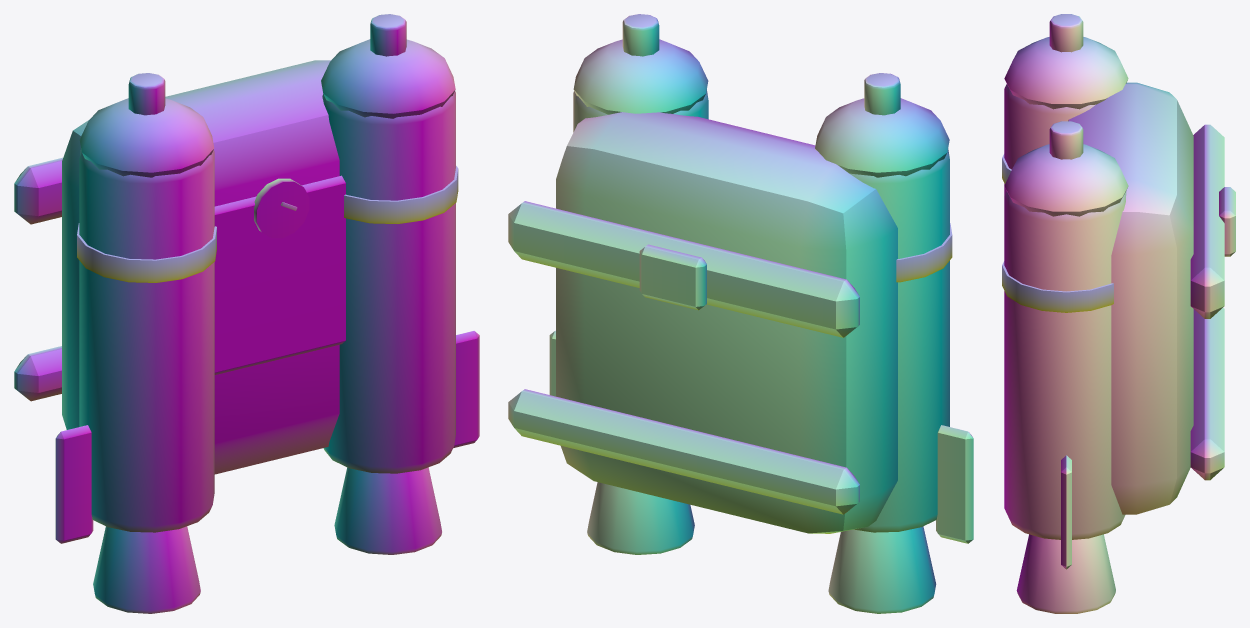
File: gad_jetpack.glb
3 renders of one model, left to right at view 1: azimuth 30°, elevation 25°; view 2: azimuth 150°, elevation 25°; view 3: azimuth 270°, elevation 25°, orthographic. The views are drawn at different scales.
Visible parts, largest first — view 1: jetpack; view 2: jetpack; view 3: jetpack.
Boxes of the visible parts, x1,y1,x2,y2 form: jetpack: (14, 14, 479, 613); jetpack: (508, 14, 973, 613); jetpack: (1002, 14, 1235, 613).
Size of the model in its own units: 0.158 by 0.183 by 0.0828.
